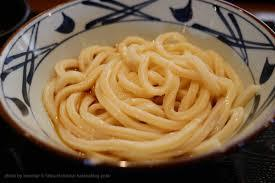bukkake: (2, 1, 275, 170)
